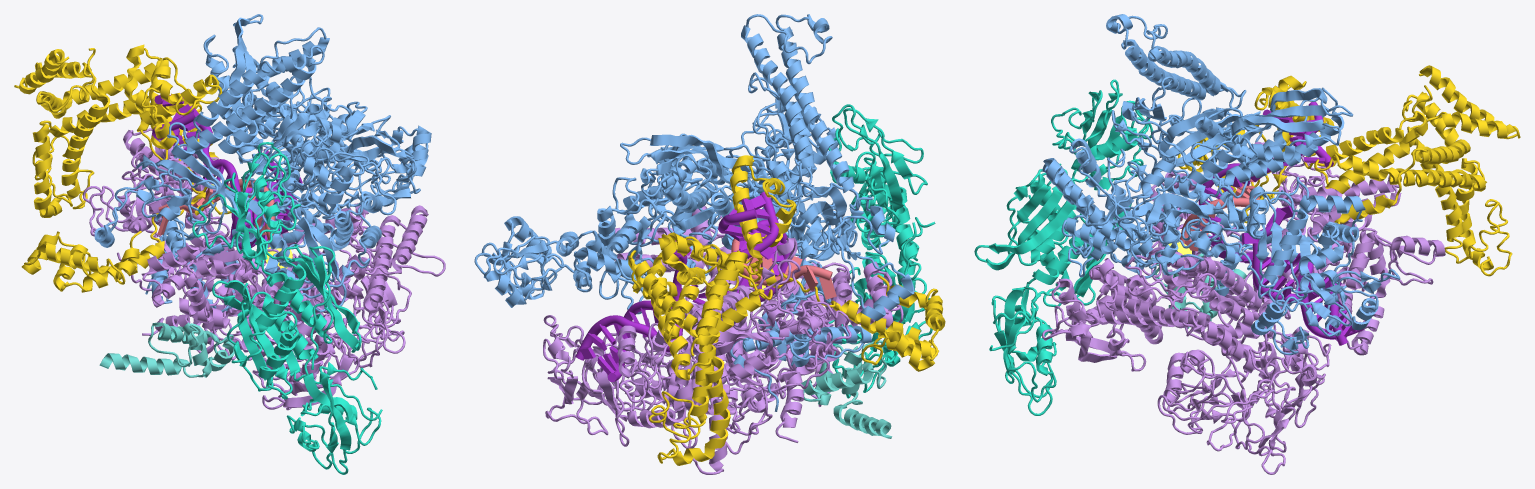
File: 6C9Y_assembled_pieces.glb
3 views of the same model, side by side, from view 1: azimuth 30°, elevation 25°; view 2: azimuth 150°, elevation 25°; view 3: azimuth 270°, elevation 25° (orthographic). The views are drawn at different scales.
Visible parts, largest first — view 1: Piece_RNAP_Beta, Piece_RNAP_BetaPrime, Piece_RNAP_Alpha_Dimer, Piece_RNAP_Sigma70, Piece_RNAP_Omega, Piece_RNAP_DNA_Duplex, Piece_RNAP_Nascent_RNA; view 2: Piece_RNAP_Beta, Piece_RNAP_BetaPrime, Piece_RNAP_Sigma70, Piece_RNAP_Alpha_Dimer, Piece_RNAP_DNA_Duplex, Piece_RNAP_Omega, Piece_RNAP_Nascent_RNA; view 3: Piece_RNAP_Beta, Piece_RNAP_BetaPrime, Piece_RNAP_Sigma70, Piece_RNAP_Alpha_Dimer, Piece_RNAP_DNA_Duplex, Piece_RNAP_Nascent_RNA, Piece_RNAP_Omega.
Boxes of the visible parts, x1,y1,x2,y2 form: Piece_RNAP_Beta: [94, 14, 431, 313]; Piece_RNAP_BetaPrime: [83, 128, 445, 410]; Piece_RNAP_Alpha_Dimer: [192, 142, 382, 474]; Piece_RNAP_Sigma70: [14, 44, 231, 292]; Piece_RNAP_Omega: [99, 322, 234, 377]; Piece_RNAP_DNA_Duplex: [152, 93, 302, 249]; Piece_RNAP_Nascent_RNA: [157, 179, 275, 240]; Piece_RNAP_Beta: [474, 14, 914, 411]; Piece_RNAP_BetaPrime: [543, 205, 903, 474]; Piece_RNAP_Sigma70: [628, 155, 945, 465]; Piece_RNAP_Alpha_Dimer: [828, 104, 935, 398]; Piece_RNAP_DNA_Duplex: [575, 191, 790, 381]; Piece_RNAP_Omega: [801, 340, 892, 438]; Piece_RNAP_Nascent_RNA: [731, 231, 836, 299]; Piece_RNAP_Beta: [1042, 14, 1400, 355]; Piece_RNAP_BetaPrime: [1042, 136, 1445, 474]; Piece_RNAP_Sigma70: [1177, 65, 1520, 276]; Piece_RNAP_Alpha_Dimer: [974, 79, 1153, 415]; Piece_RNAP_DNA_Duplex: [1198, 101, 1363, 345]; Piece_RNAP_Nascent_RNA: [1180, 179, 1260, 251]; Piece_RNAP_Omega: [1151, 251, 1246, 328].
Bounding box in the file's own units: 15.73 × 14.34 × 17.67.
